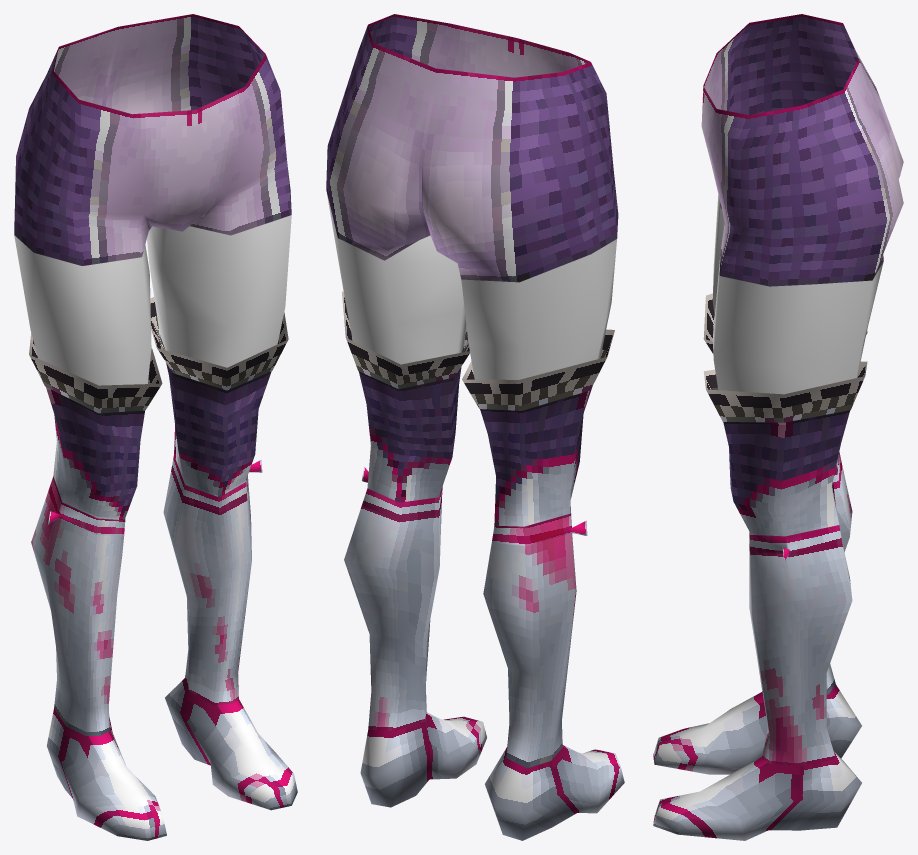
The model's file is f_reg086.glb.
The picture shows the model from 3 angles, left to right: view 1: azimuth 30°, elevation 25°; view 2: azimuth 150°, elevation 25°; view 3: azimuth 270°, elevation 25°; orthographic projection. The views are drawn at different scales.
Size of the model in its own units: 40.71 by 110 by 33.96.
Materials: 2 (1 with a texture image).
